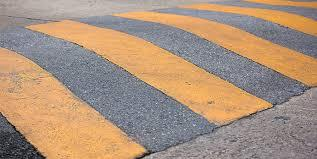Bump: (1, 0, 317, 159)
